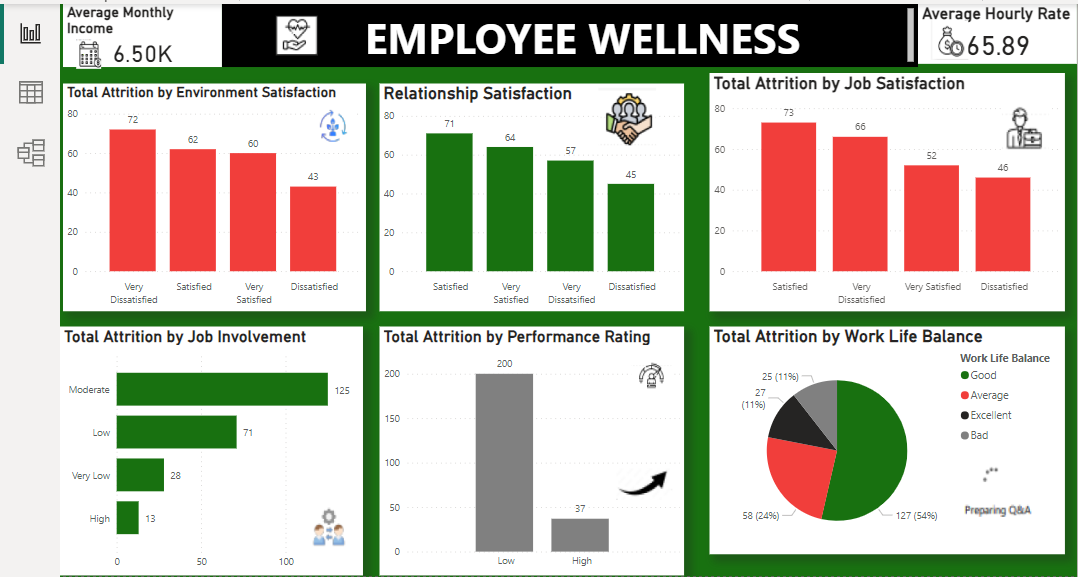

The dashboard page shown, as its layout file describes it:
{"tool":"powerbi","page":{"name":"Page 5","canvas":[1280,720],"ordinal":4},"visuals":[{"type":"textbox","box":[203.9,0,876,79.3],"z":0},{"type":"card","title":"Average Monthly Income","fields":{"Values":["Avg(HR-Employee-Attrition.MonthlyIncome)"]},"box":[3.8,0,200.1,79.3],"z":1000},{"type":"card","title":"Average Hourly Rate","fields":{"Values":["Avg(HR-Employee-Attrition.HourlyRate)"]},"box":[1079.9,0,200.1,75.5],"z":2000},{"type":"clusteredColumnChart","title":"Total Attrition by Environment Satisfaction","fields":{"Y":["Sum(HR-Employee-Attrition.Attrition Count)"],"Category":["HR-Employee-Attrition.EnvironmentSatisfaction (groups)"]},"box":[3.8,100.1,381.4,287],"z":3000},{"type":"clusteredBarChart","title":"Total Attrition by Job Involvement","fields":{"Y":["Sum(HR-Employee-Attrition.Attrition Count)"],"Category":["HR-Employee-Attrition.JobInvolvement (groups)"]},"box":[0,405.9,381.4,313.4],"z":4000},{"type":"clusteredColumnChart","title":"Relationship Satisfaction","fields":{"Category":["HR-Employee-Attrition.RelationshipSatisfaction (groups)"],"Y":["Sum(HR-Employee-Attrition.Attrition Count)"]},"box":[402.1,100.1,383.2,287],"z":5000},{"type":"clusteredColumnChart","title":"Total Attrition by Performance Rating","fields":{"Y":["Sum(HR-Employee-Attrition.Attrition Count)"],"Category":["HR-Employee-Attrition.PerformanceRating (groups)"]},"box":[402,406,383,313],"z":6000},{"type":"pieChart","title":"Total Attrition by Work Life Balance","fields":{"Category":["HR-Employee-Attrition.WorkLifeBalance (groups)"],"Y":["Sum(HR-Employee-Attrition.Attrition Count)"]},"box":[817.5,405.9,447.4,287],"z":7000},{"type":"clusteredColumnChart","title":"Total Attrition by Job Satisfaction","fields":{"Y":["Sum(HR-Employee-Attrition.Attrition Count)"],"Category":["HR-Employee-Attrition.JobSatisfaction (groups)"]},"box":[817.5,86.8,447.4,300.2],"z":8000},{"type":"image","box":[3.8,39.6,64.2,47.2],"z":9000},{"type":"image","box":[253,9.4,90.6,60.4],"z":10000},{"type":"image","box":[1079.9,15.1,79.3,60.4],"z":11000},{"type":"image","box":[305.8,122.7,79.3,60.4],"z":12000},{"type":"image","box":[670.2,100.1,86.8,83.1],"z":13000},{"type":"image","box":[1164.8,122.7,100.1,69.9],"z":13001},{"type":"image","box":[298.3,624.9,79.3,68],"z":13002},{"type":"image","box":[713.6,430.4,62.3,73.6],"z":13003},{"type":"image","box":[694.7,549.4,81.2,109.5],"z":13004},{"type":"image","box":[1119.5,562.6,130.3,101.9],"z":13005}]}

Visuals, with their boxes in screenshot pixels (x1, y1, x2, y2):
textbox: locate(220, 3, 914, 66)
"Average Monthly Income" card: locate(62, 3, 220, 66)
"Average Hourly Rate" card: locate(914, 3, 1073, 63)
"Total Attrition by Environment Satisfaction" clusteredColumnChart: locate(62, 82, 364, 309)
"Total Attrition by Job Involvement" clusteredBarChart: locate(59, 324, 361, 573)
"Relationship Satisfaction" clusteredColumnChart: locate(377, 82, 681, 309)
"Total Attrition by Performance Rating" clusteredColumnChart: locate(377, 324, 681, 572)
"Total Attrition by Work Life Balance" pieChart: locate(706, 324, 1061, 552)
"Total Attrition by Job Satisfaction" clusteredColumnChart: locate(706, 72, 1061, 309)
image: locate(62, 34, 113, 72)
image: locate(259, 10, 331, 58)
image: locate(914, 15, 977, 63)
image: locate(301, 100, 364, 148)
image: locate(590, 82, 659, 148)
image: locate(982, 100, 1061, 155)
image: locate(295, 498, 358, 552)
image: locate(624, 344, 674, 402)
image: locate(609, 438, 674, 525)
image: locate(946, 448, 1049, 529)
